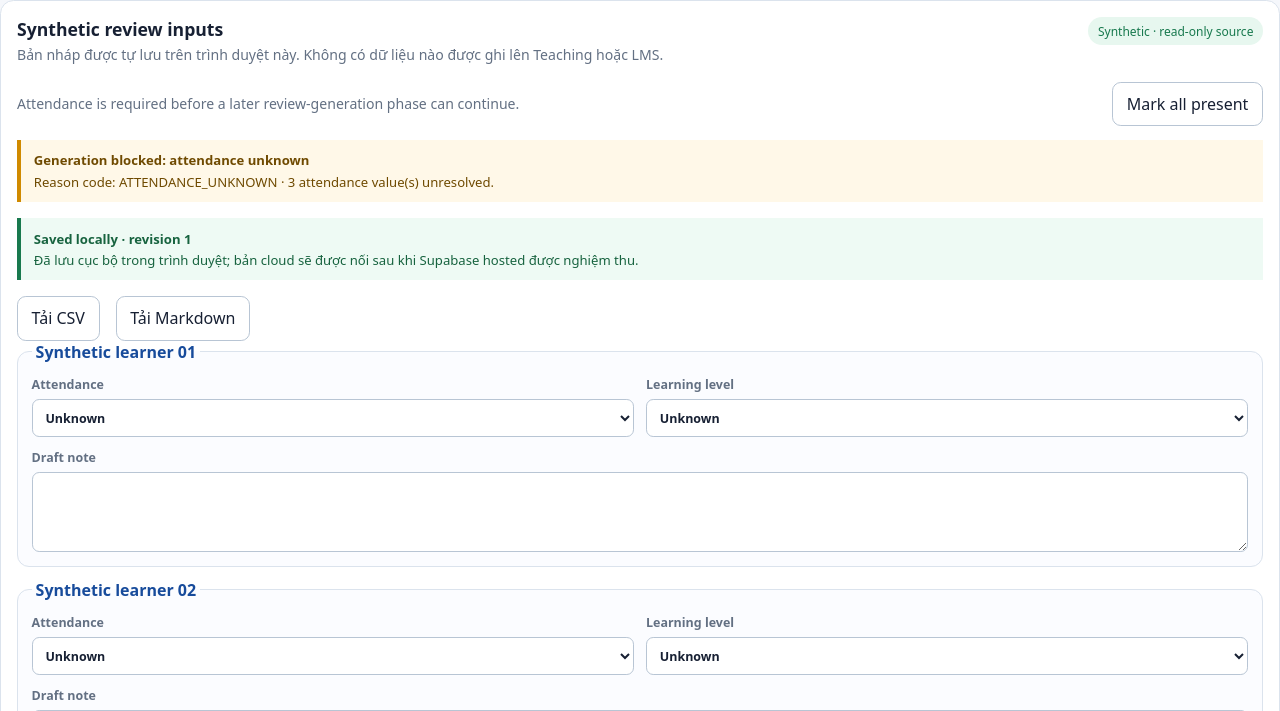
it: Synthetic review inputs › commits the latest synthetic edit only after 300 milliseconds
The width and height of the screenshot is (1280, 711).
Type "Local synthetic autosave note" into the text box named "Synthetic learner 01 draft note" at (640, 512), box x1=32 y1=472 x2=1248 y2=552
Wait 300 ms
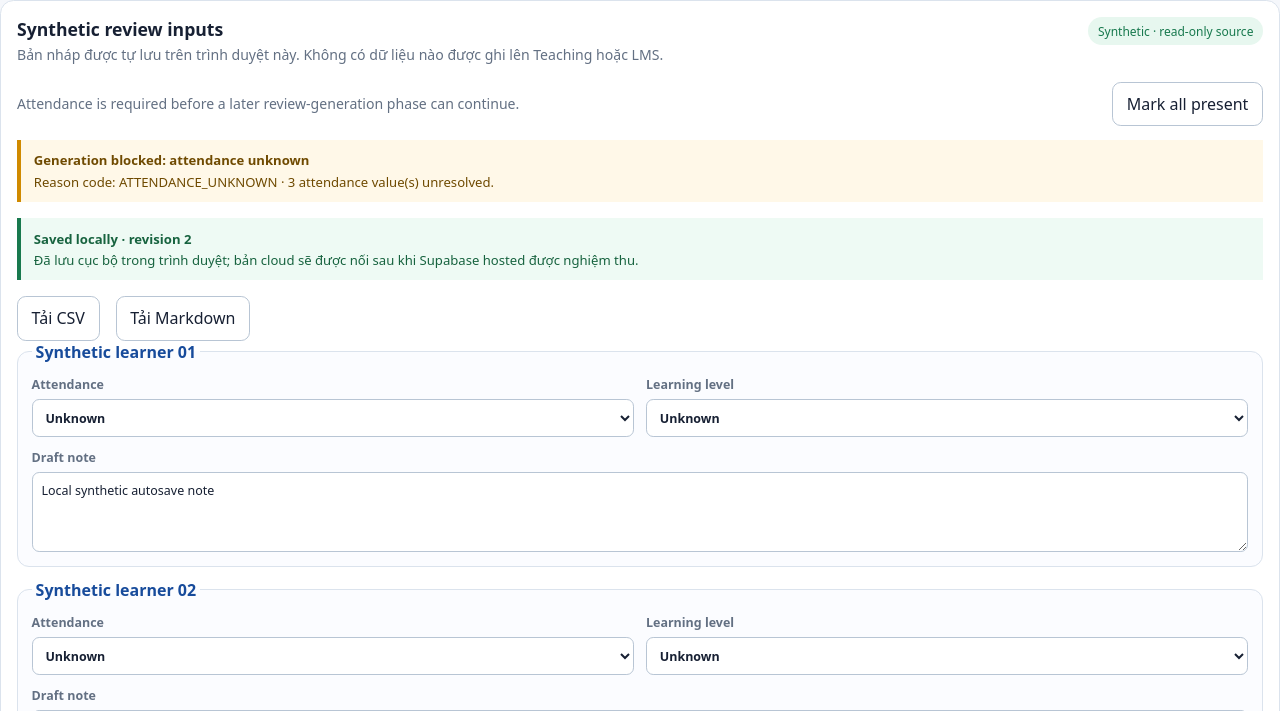
Now the text "Saved locally · revision 2" is shown, box x1=34 y1=230 x2=191 y2=248
